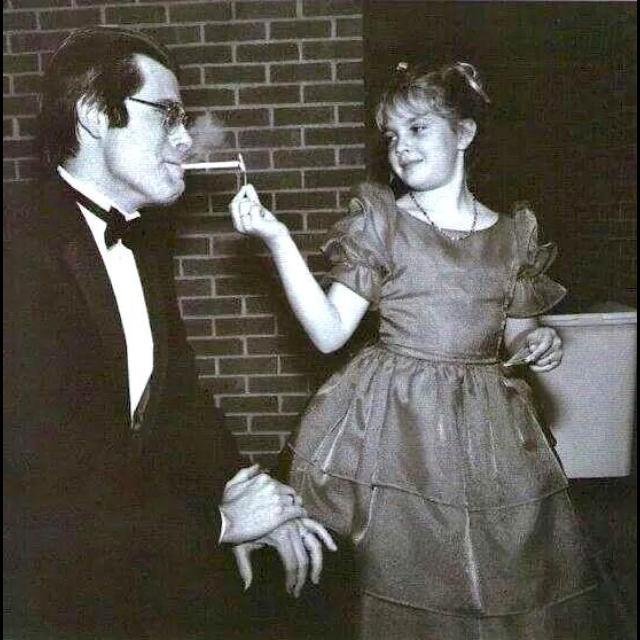rokok: (182, 156, 248, 182)
